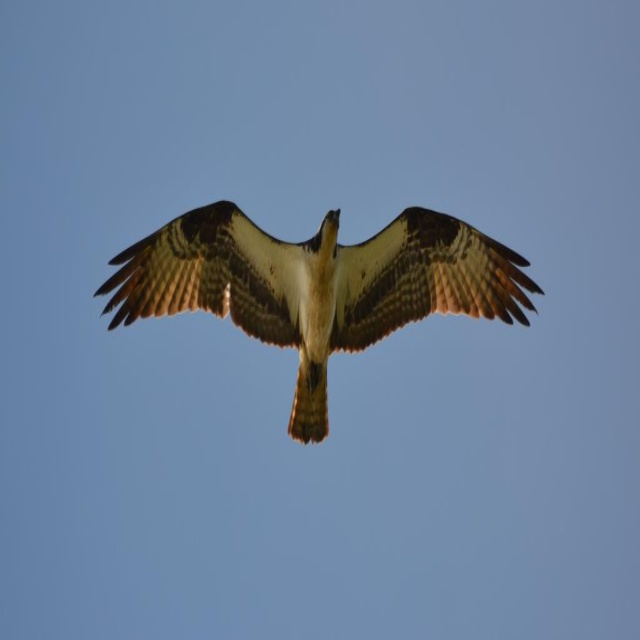Eagle: (92, 200, 548, 445)
